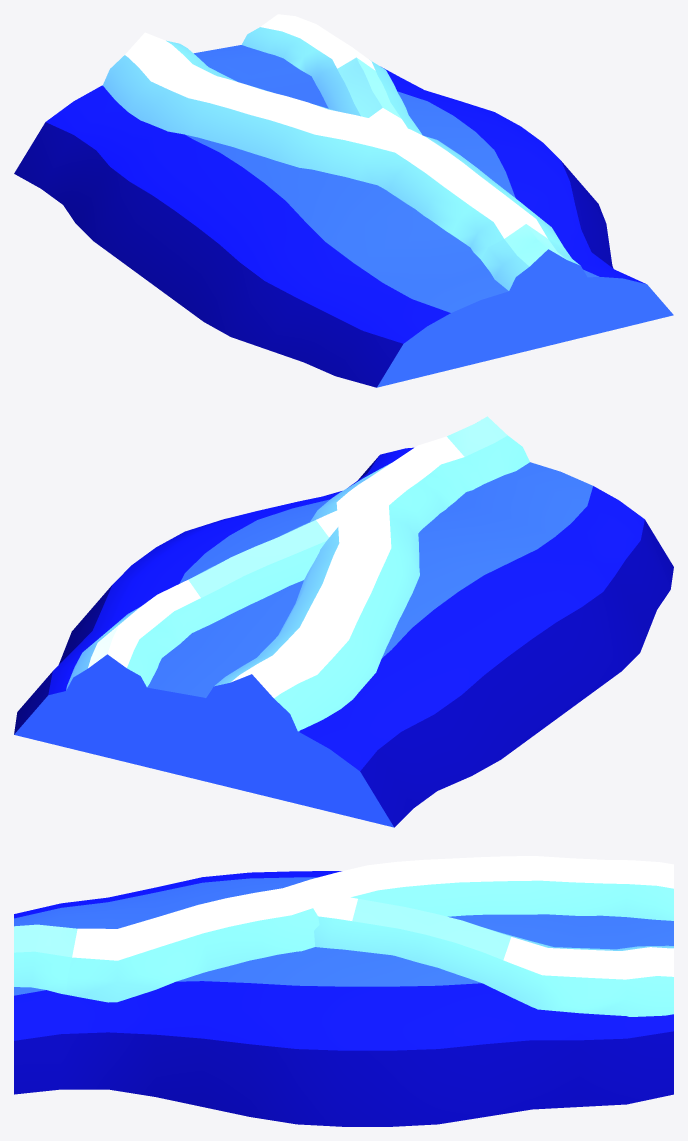
File: shot_lightning_248.glb
3 renders of one model, top to bottom at view 1: azimuth 30°, elevation 25°; view 2: azimuth 150°, elevation 25°; view 3: azimuth 270°, elevation 25°, orthographic. The views are drawn at different scales.
Visible parts, largest first — view 1: shot_lightning_248_0, shot_lightning_248_1, shot_lightning_248_2; view 2: shot_lightning_248_0, shot_lightning_248_1, shot_lightning_248_2; view 3: shot_lightning_248_0, shot_lightning_248_1, shot_lightning_248_2.
Boxes of the visible parts, x1,y1,x2,y2 form: shot_lightning_248_0: (14, 45, 673, 387); shot_lightning_248_1: (103, 32, 589, 295); shot_lightning_248_2: (241, 14, 422, 135); shot_lightning_248_0: (14, 447, 673, 827); shot_lightning_248_1: (203, 416, 529, 735); shot_lightning_248_2: (66, 503, 352, 695); shot_lightning_248_0: (14, 871, 673, 1126); shot_lightning_248_1: (14, 856, 673, 1002); shot_lightning_248_2: (310, 891, 673, 1016).
Size of the model in its own units: 11 by 3.2 by 14.
